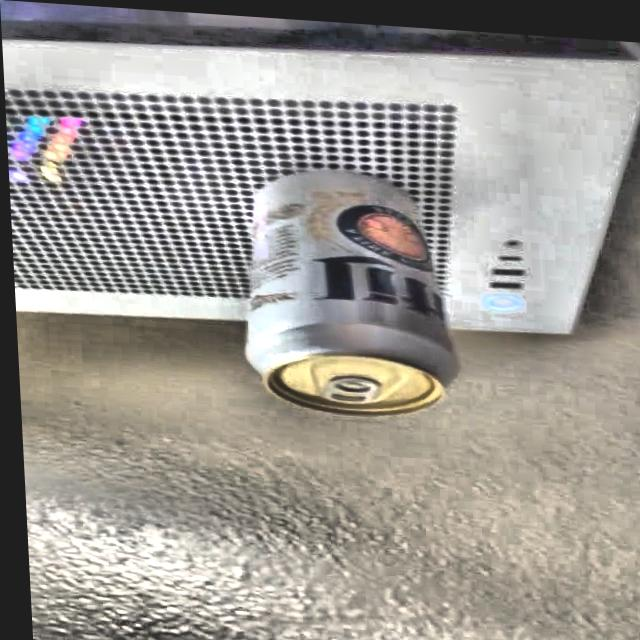can: (224, 148, 466, 428)
